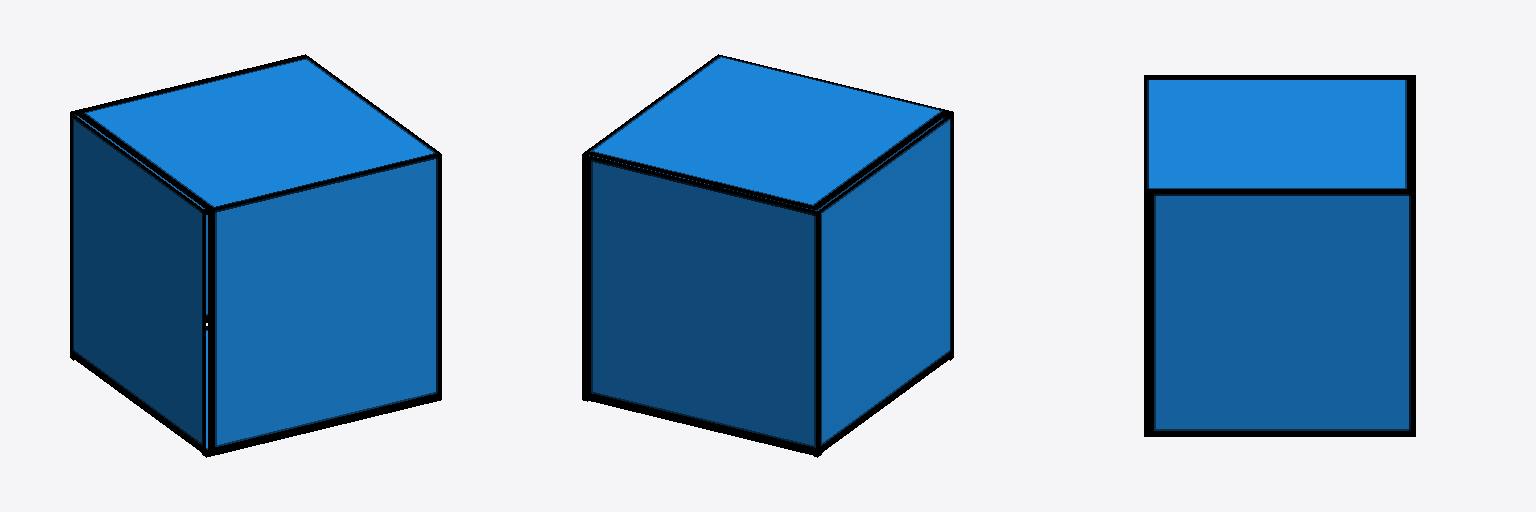
3 renders of one model, left to right at view 1: azimuth 30°, elevation 25°; view 2: azimuth 150°, elevation 25°; view 3: azimuth 270°, elevation 25°, orthographic.
Parts seen in each view (by area): view 1: dice; view 2: dice; view 3: dice.
Boxes of the visible parts, x1,y1,x2,y2 form: dice: [70, 54, 441, 457]; dice: [582, 54, 953, 457]; dice: [1144, 75, 1415, 436].
Size of the model in its own units: 64 by 64 by 64.
1 materials, 1 textured.